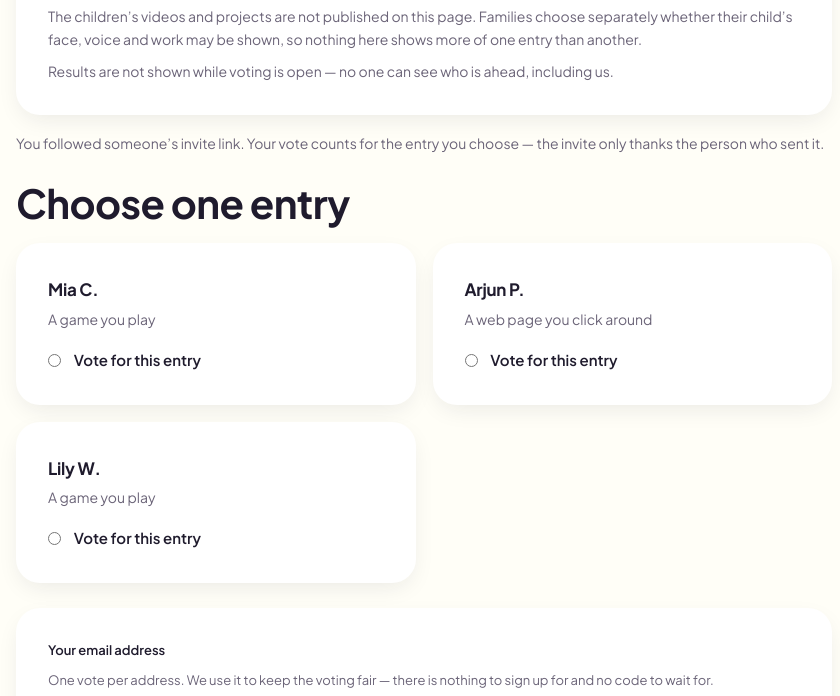
Test case: PublicVotePage — casting a vote › reports a referrer at their cap as "being checked", never as a number
The width and height of the screenshot is (840, 696).
(page scrolled)
Click the radio button labelled "Vote for this entry" below "Mia C.".
click(54, 360)  # box top-left (48, 354), bottom-right (61, 367)
(page scrolled)
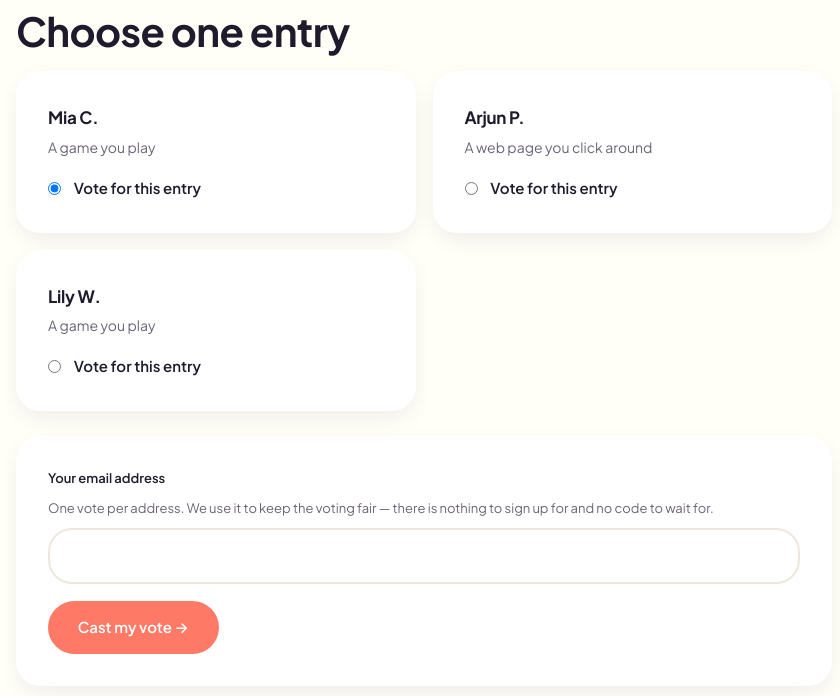
Type "grandma@example.com" into the field with test id "vote-email".
click(424, 556); type("grandma@example.com")  # box top-left (48, 528), bottom-right (800, 584)
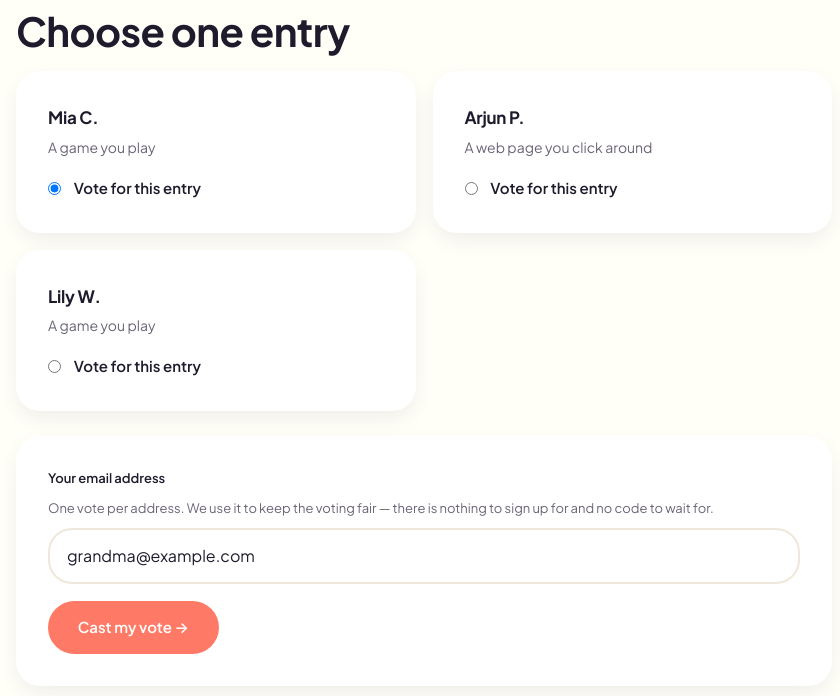
Click the button with test id "vote-submit".
click(133, 627)  # box top-left (48, 601), bottom-right (219, 654)
(page scrolled)
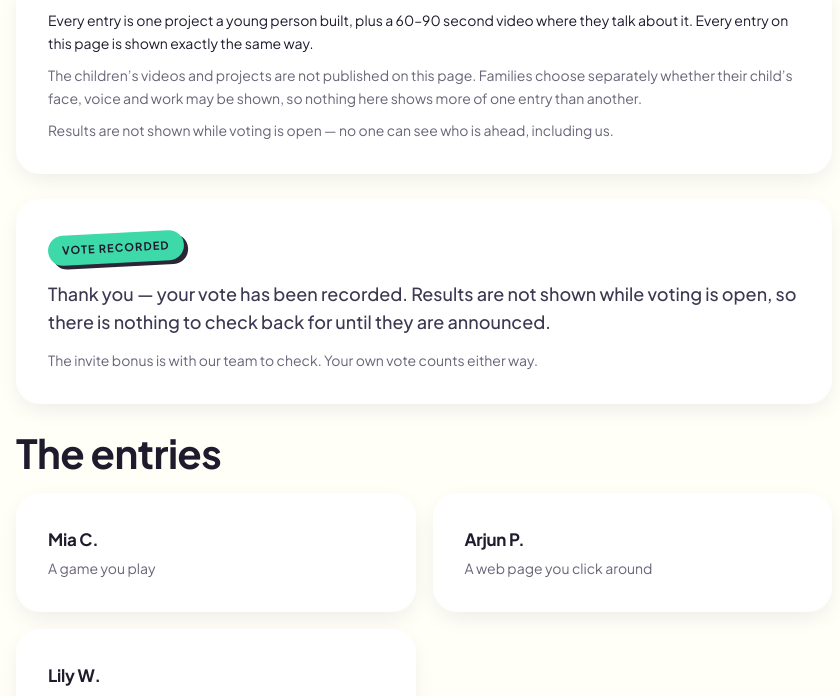
Result: the text with test id "vote-referral-outcome" shows "with our team to check" at top-left (48, 351), bottom-right (538, 369)
Result: the text with test id "vote-referral-outcome" shows "Your own vote counts" at top-left (48, 351), bottom-right (538, 369)
